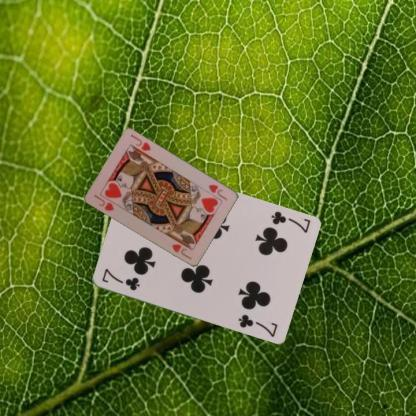7c: (268, 209, 312, 235), (99, 266, 141, 292)
Jh: (206, 182, 230, 203), (91, 192, 116, 212)
